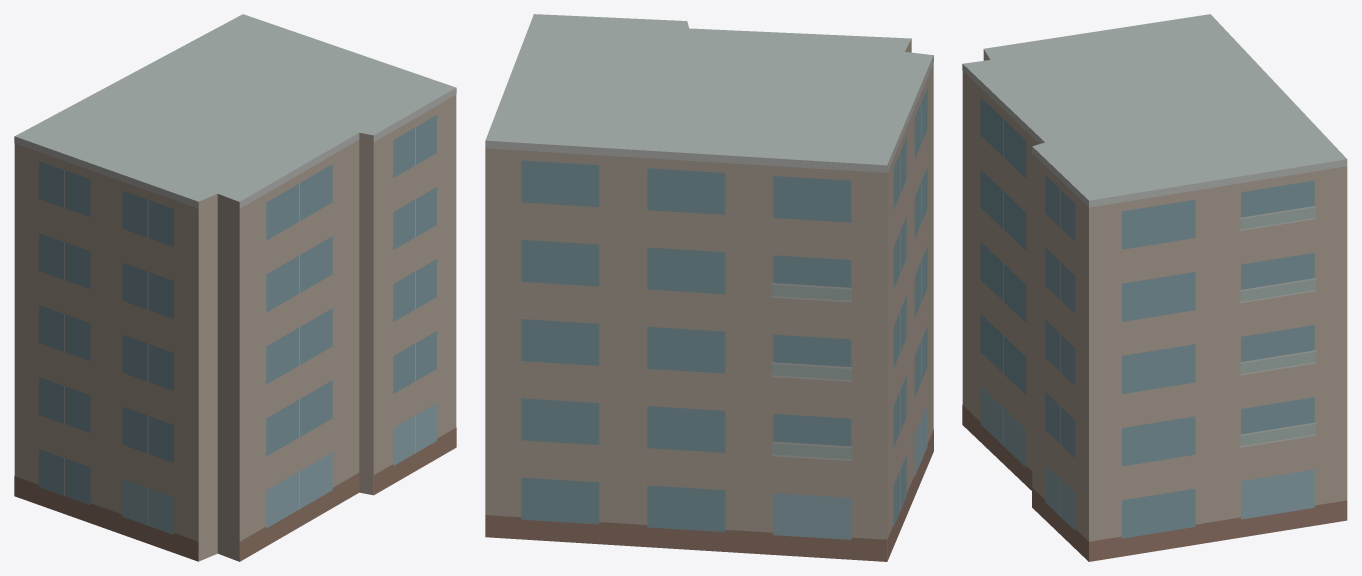
File: survey-upis-32851295.glb
3 renders of one model, left to right at view 1: azimuth 30°, elevation 25°; view 2: azimuth 150°, elevation 25°; view 3: azimuth 270°, elevation 25°, orthographic. The views are drawn at different scales.
Parts seen in each view (by area): view 1: survey-upis-32851295.tmp; view 2: survey-upis-32851295.tmp; view 3: survey-upis-32851295.tmp.
Boxes of the visible parts, x1,y1,x2,y2 form: survey-upis-32851295.tmp: (14, 14, 456, 561); survey-upis-32851295.tmp: (485, 14, 933, 561); survey-upis-32851295.tmp: (962, 14, 1347, 561).
Bounding box in the file's own units: 14.11 × 12.72 × 12.29.
